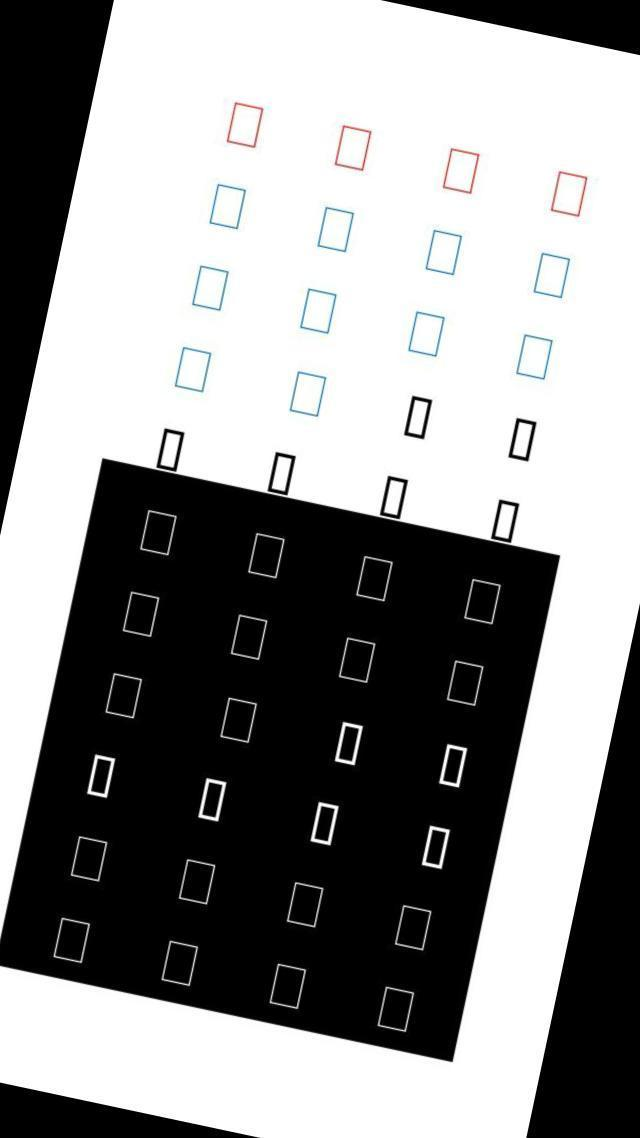ASCII: (68, 833, 110, 884), (176, 856, 217, 908), (284, 880, 326, 929), (549, 169, 589, 220), (225, 102, 266, 151), (332, 124, 372, 174), (424, 228, 464, 278), (298, 287, 338, 336), (532, 251, 572, 300), (190, 263, 230, 312), (514, 333, 554, 382), (160, 939, 200, 988), (354, 555, 394, 604), (336, 636, 376, 685), (394, 904, 434, 953), (376, 985, 416, 1034), (172, 346, 212, 394), (463, 578, 503, 626), (52, 916, 92, 964), (288, 370, 327, 419), (208, 181, 247, 230), (268, 962, 307, 1011), (139, 509, 178, 558), (246, 532, 286, 579), (230, 613, 269, 661), (441, 148, 481, 194), (446, 659, 484, 707), (104, 673, 142, 720), (86, 752, 120, 804), (408, 311, 446, 357), (122, 591, 160, 637), (196, 776, 230, 824), (317, 206, 353, 251), (154, 426, 188, 472), (220, 698, 256, 741), (507, 416, 539, 464), (308, 800, 339, 848), (489, 498, 521, 544), (378, 474, 408, 522), (438, 742, 468, 790), (403, 394, 434, 440), (420, 824, 451, 870), (334, 720, 364, 767), (267, 450, 296, 497)
